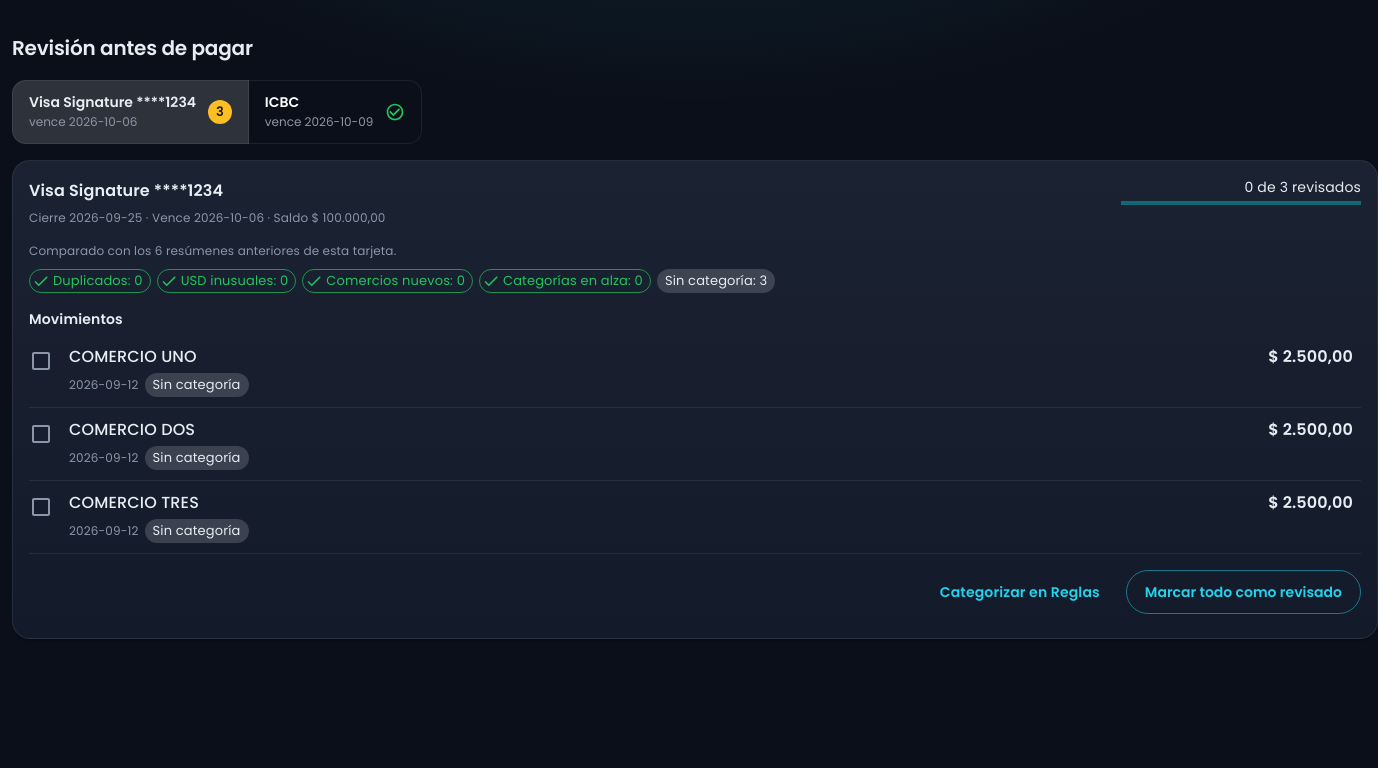
Test: StatementReviewSection › tildar manda el PATCH, deja el hallazgo tildado y baja los pendientes
Click the text "COMERCIO UNO" at (133, 356), box [69,345,197,368]
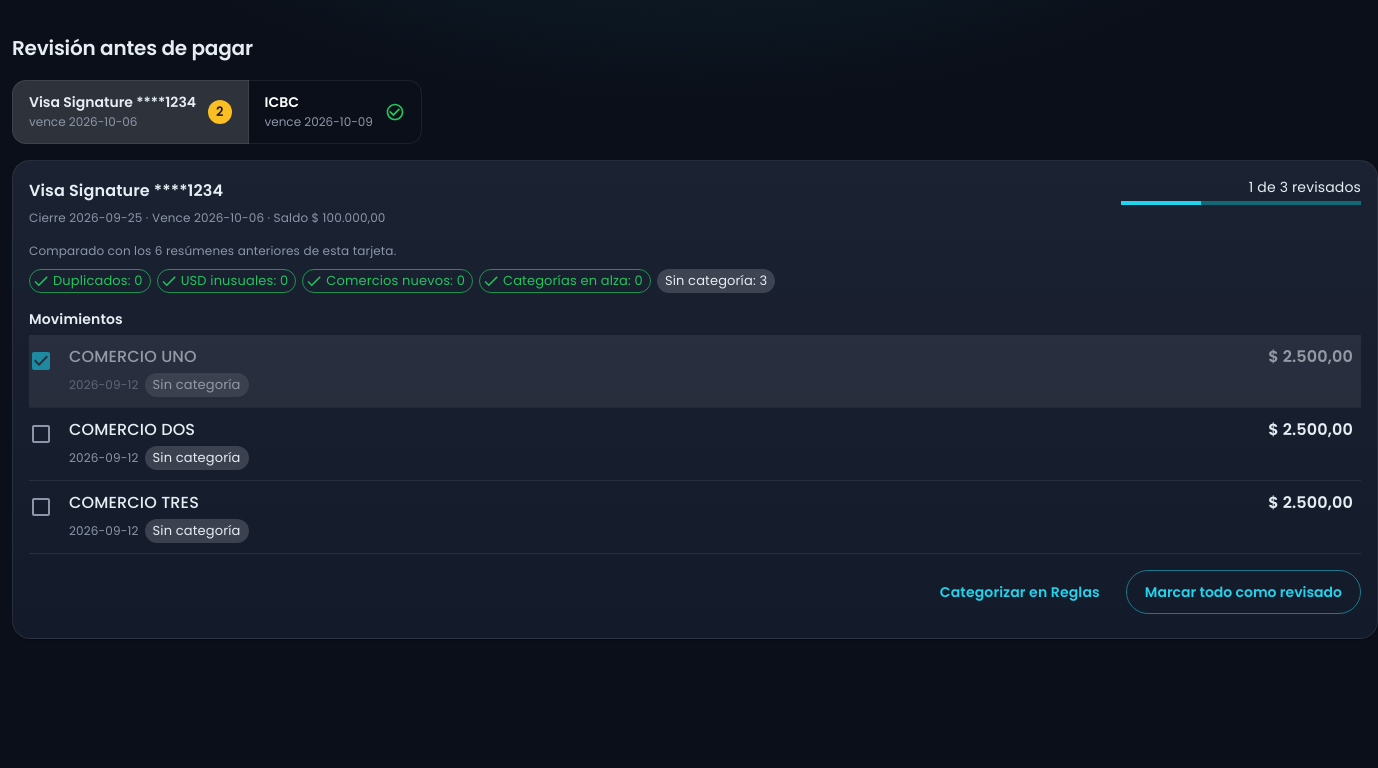
Now the checkbox named "revisado: COMERCIO UNO" is checked, box [29,349,53,373]
Now the text "2" is shown, box [216,102,224,121]
